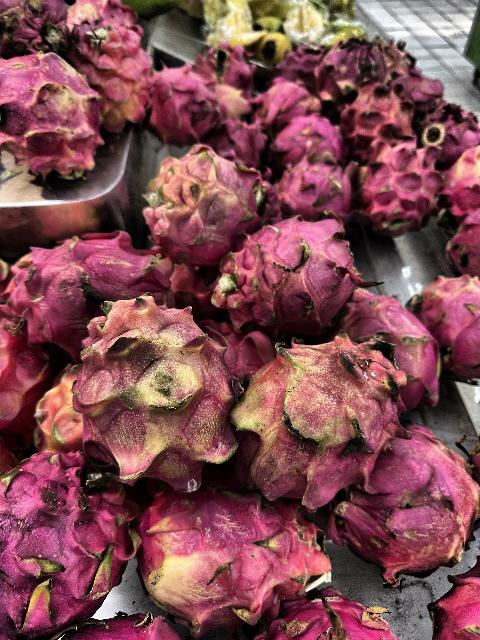buah-naga-belum-matang: (71, 298, 243, 488), (244, 333, 406, 494), (138, 491, 328, 615), (342, 435, 480, 573), (0, 47, 106, 185), (148, 144, 258, 262), (72, 28, 150, 130), (34, 363, 82, 451), (440, 146, 480, 216)
buah-naga-matang: (0, 442, 136, 628), (15, 232, 172, 332), (219, 220, 355, 328), (336, 282, 440, 408), (408, 268, 480, 372), (360, 143, 436, 229), (145, 65, 224, 139), (268, 598, 404, 640), (340, 80, 418, 146), (266, 160, 352, 218), (267, 115, 354, 162), (430, 564, 480, 640), (314, 40, 384, 94), (420, 104, 480, 156), (246, 80, 318, 120), (450, 216, 480, 268)
